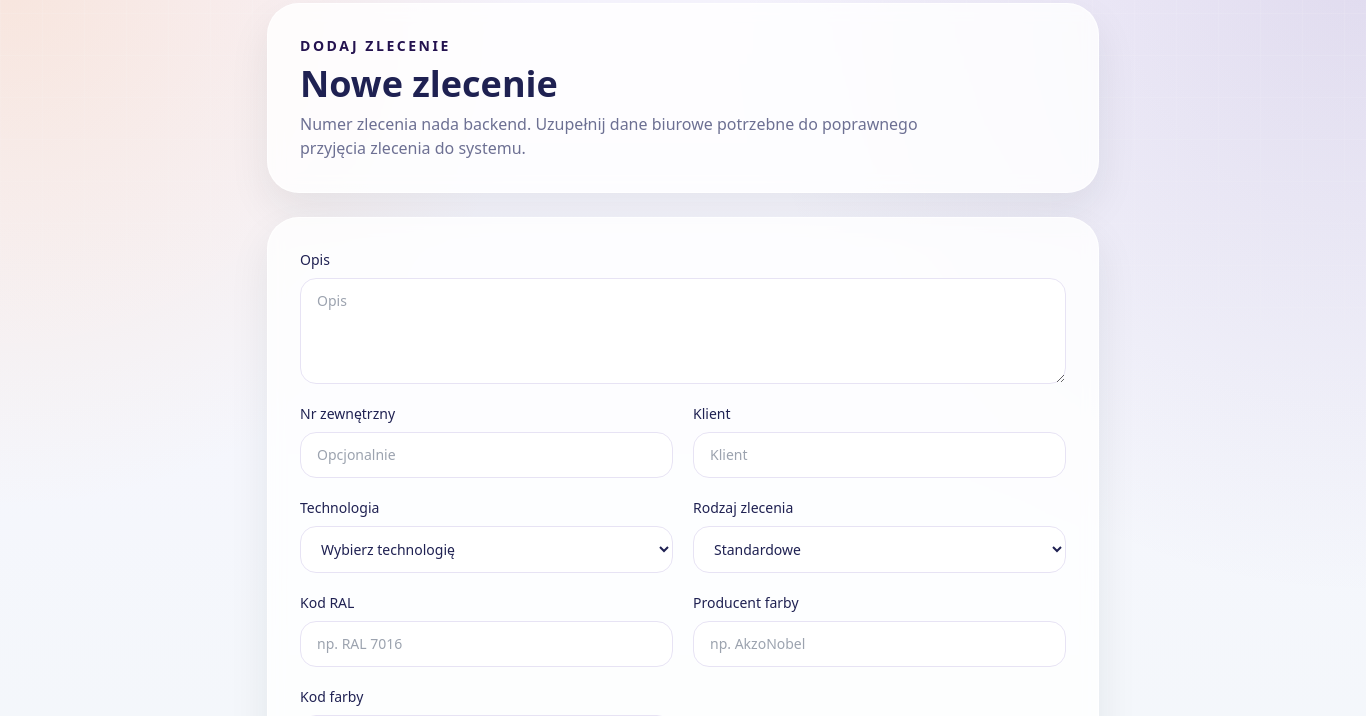
Scenario: frontend state consistency › warns when predicted paint demand exceeds current stock and says to order more paint
Type "ACME" into the field labelled "Klient" at (880, 455), box [693, 432, 1066, 478]
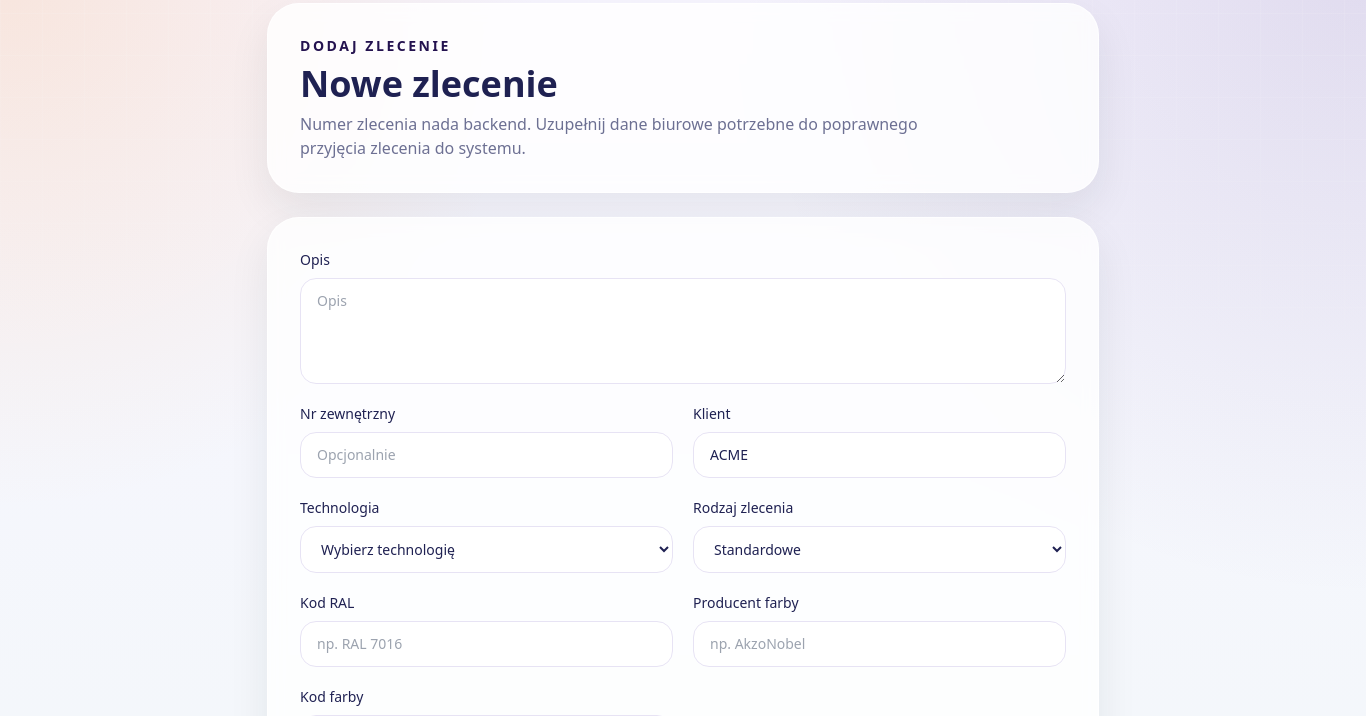
Select "RAL" in the dropdown labelled "Technologia" at (486, 550), box [300, 526, 673, 573]
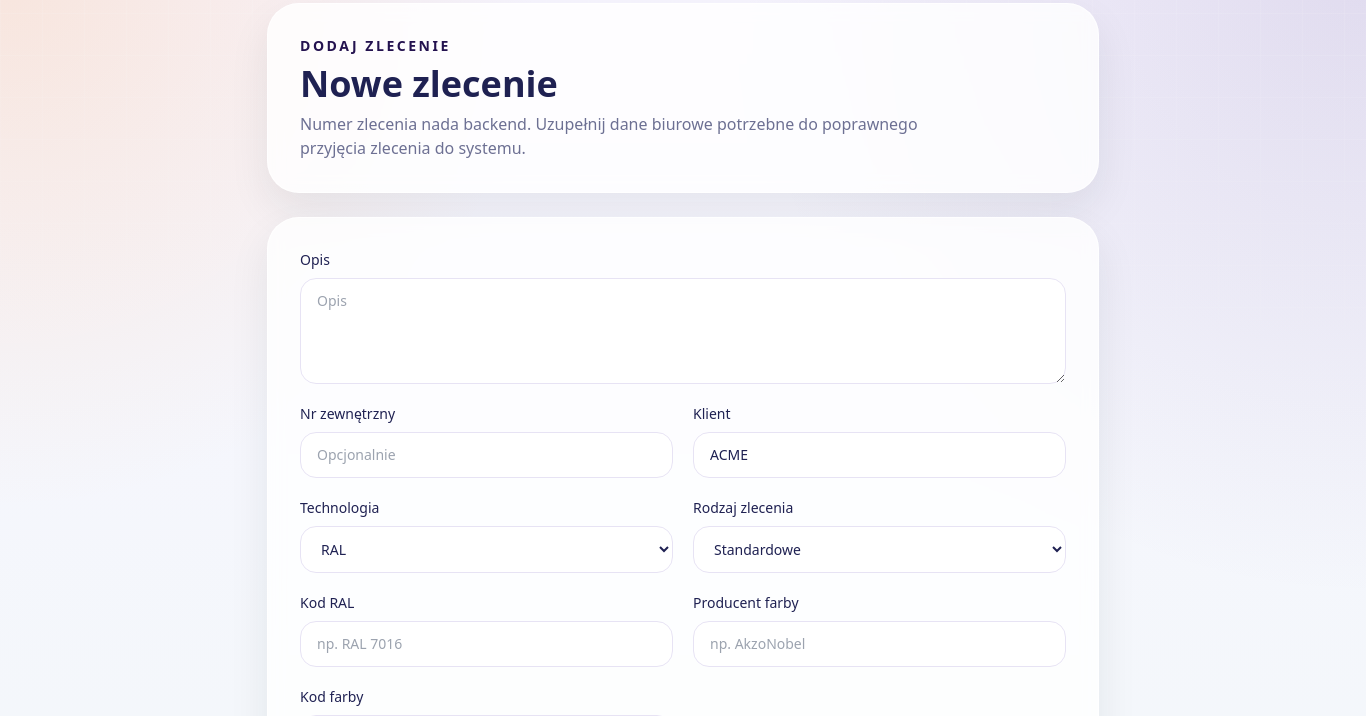
Type "RAL 7016" into the field labelled "Kod RAL" at (486, 644), box [300, 621, 673, 667]
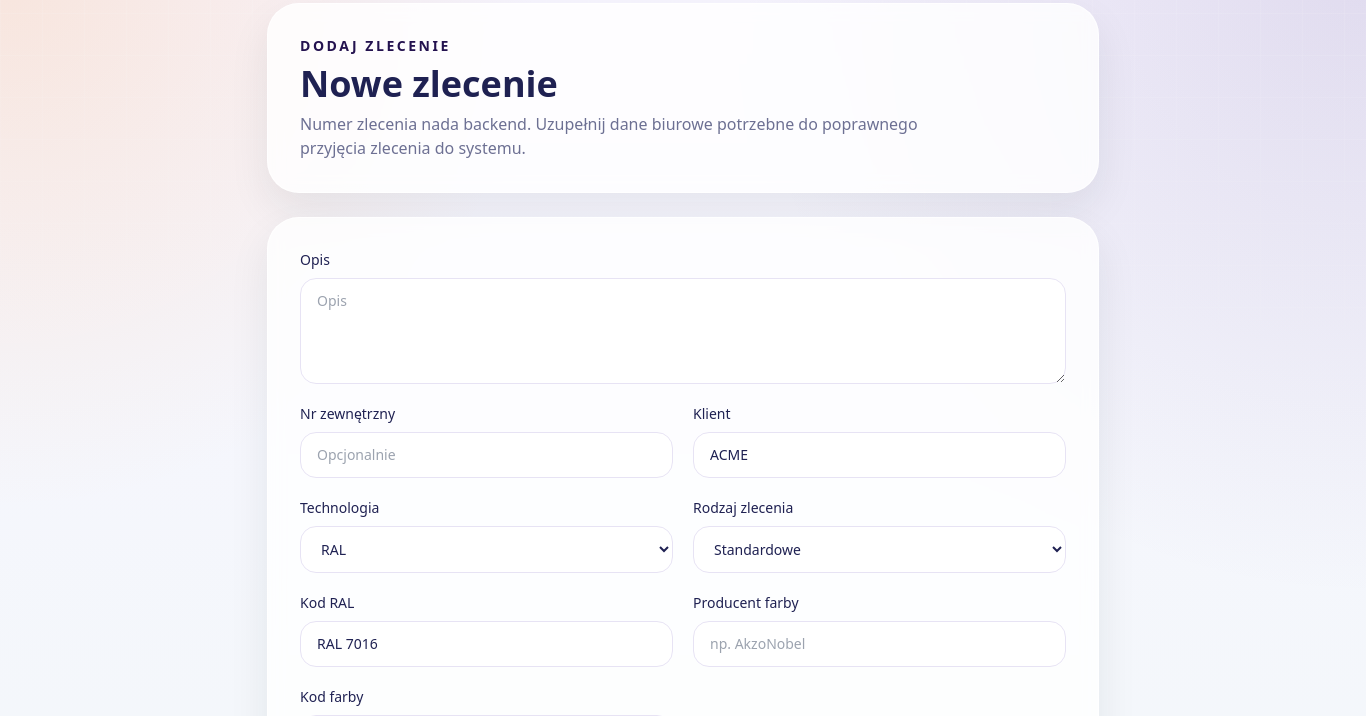
Type "AkzoNobel" into the field labelled "Producent farby" at (880, 644), box [693, 621, 1066, 667]
(page scrolled)
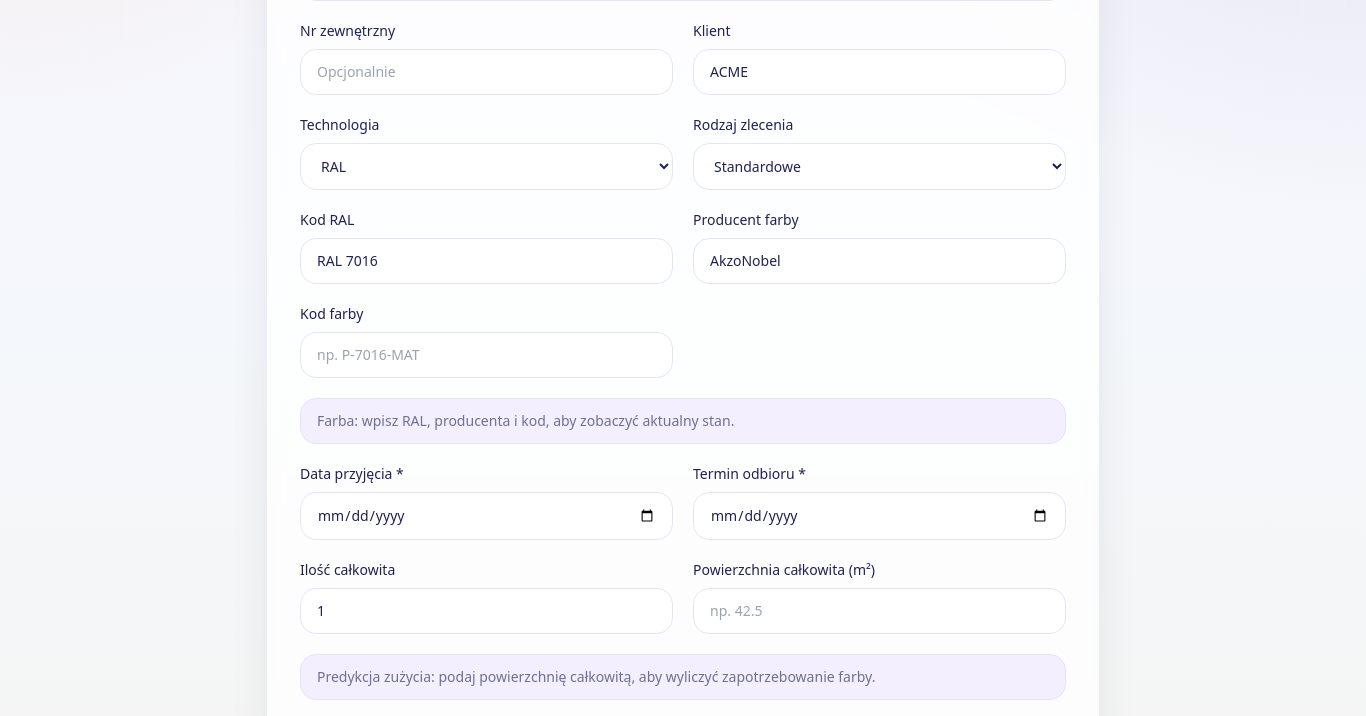
Type "P-7016" into the field labelled "Kod farby" at (486, 355), box [300, 332, 673, 378]
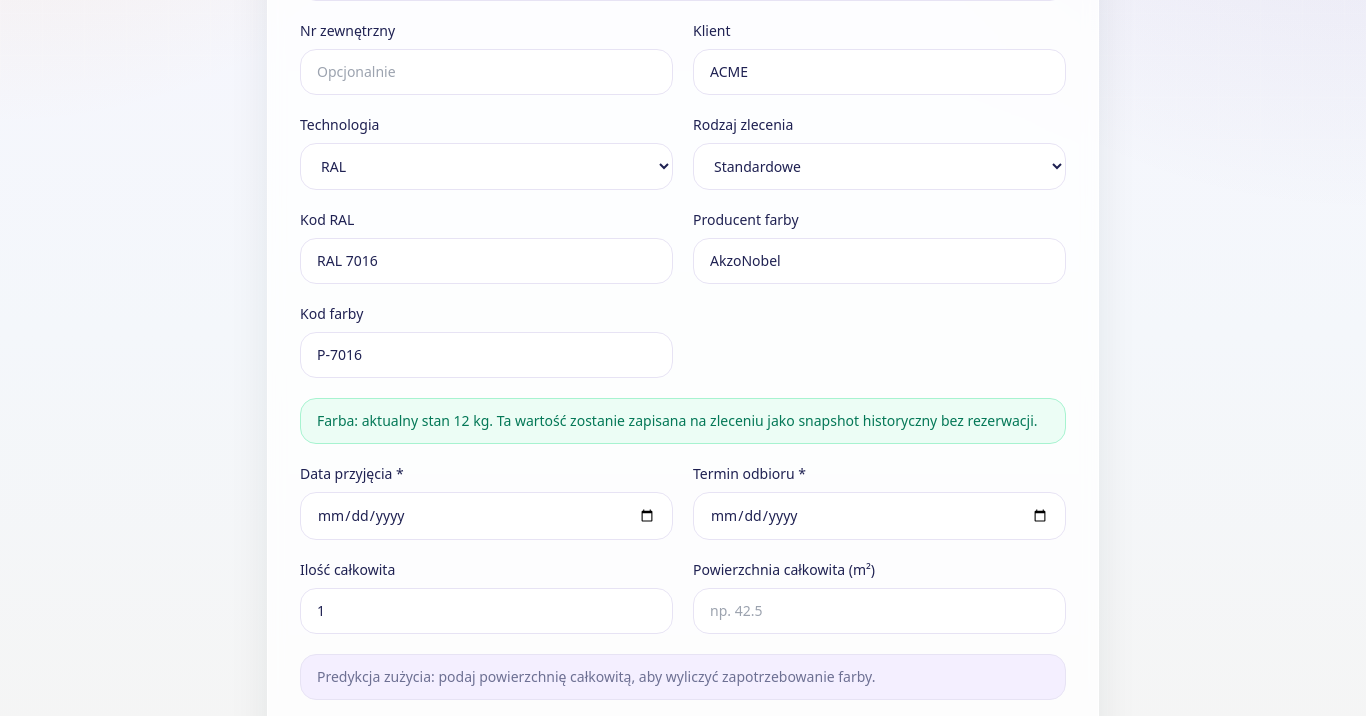
Expected: the text "aktualny stan 12 kg" is shown, [317, 411, 1038, 430]
Type "100" into the number field labelled "Powierzchnia całkowita (m²)" at (880, 611), box [693, 588, 1066, 634]
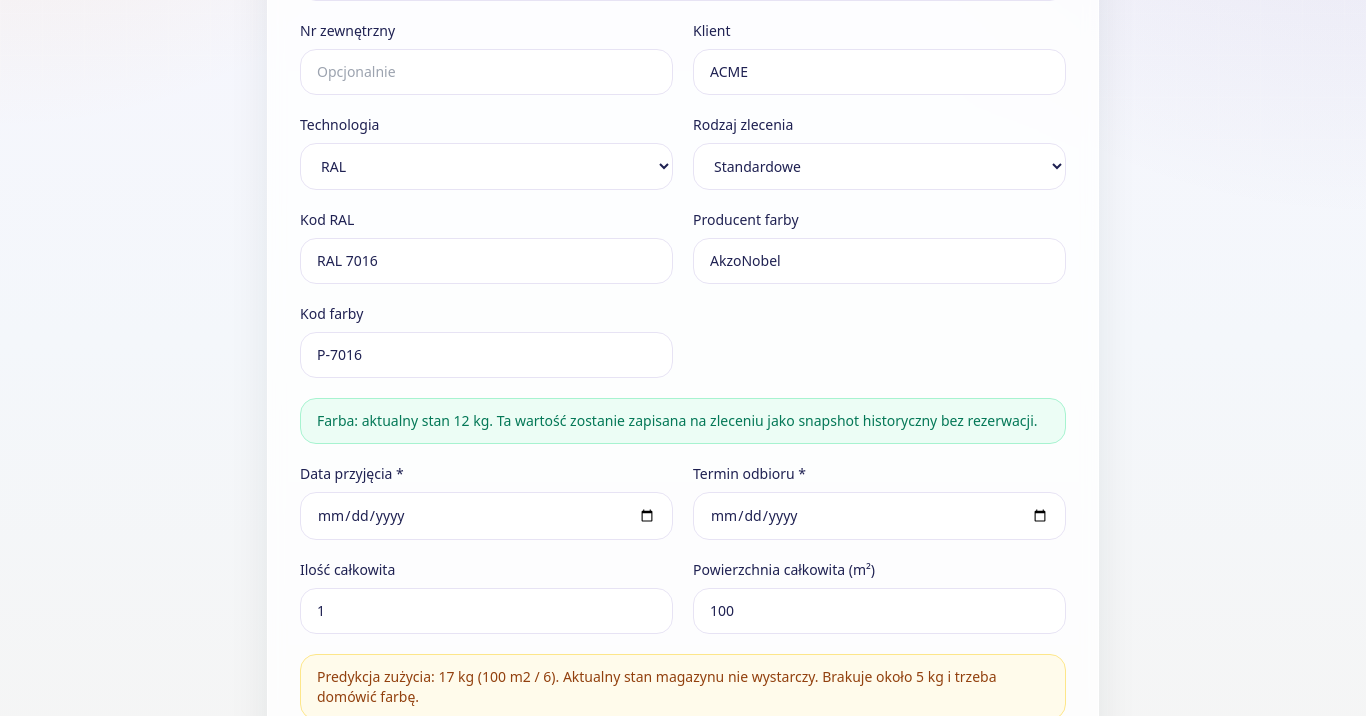
Expected: the text "trzeba domówić farbę" is shown, [317, 667, 996, 706]
